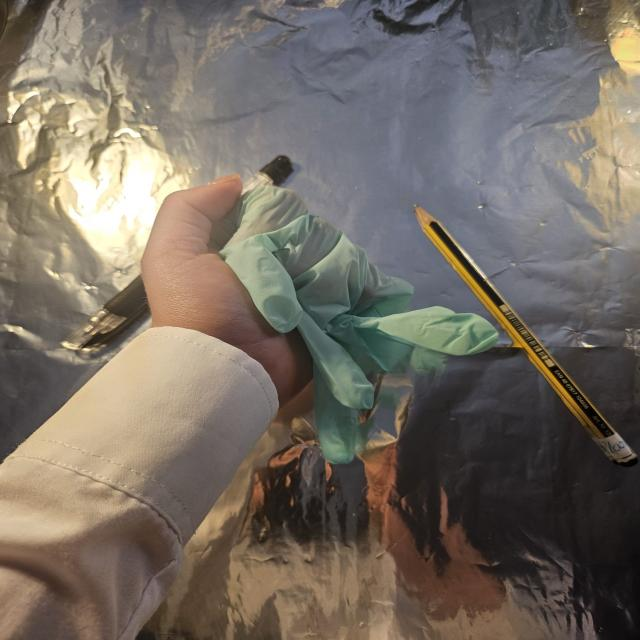glove_partial: (139, 173, 502, 464)
